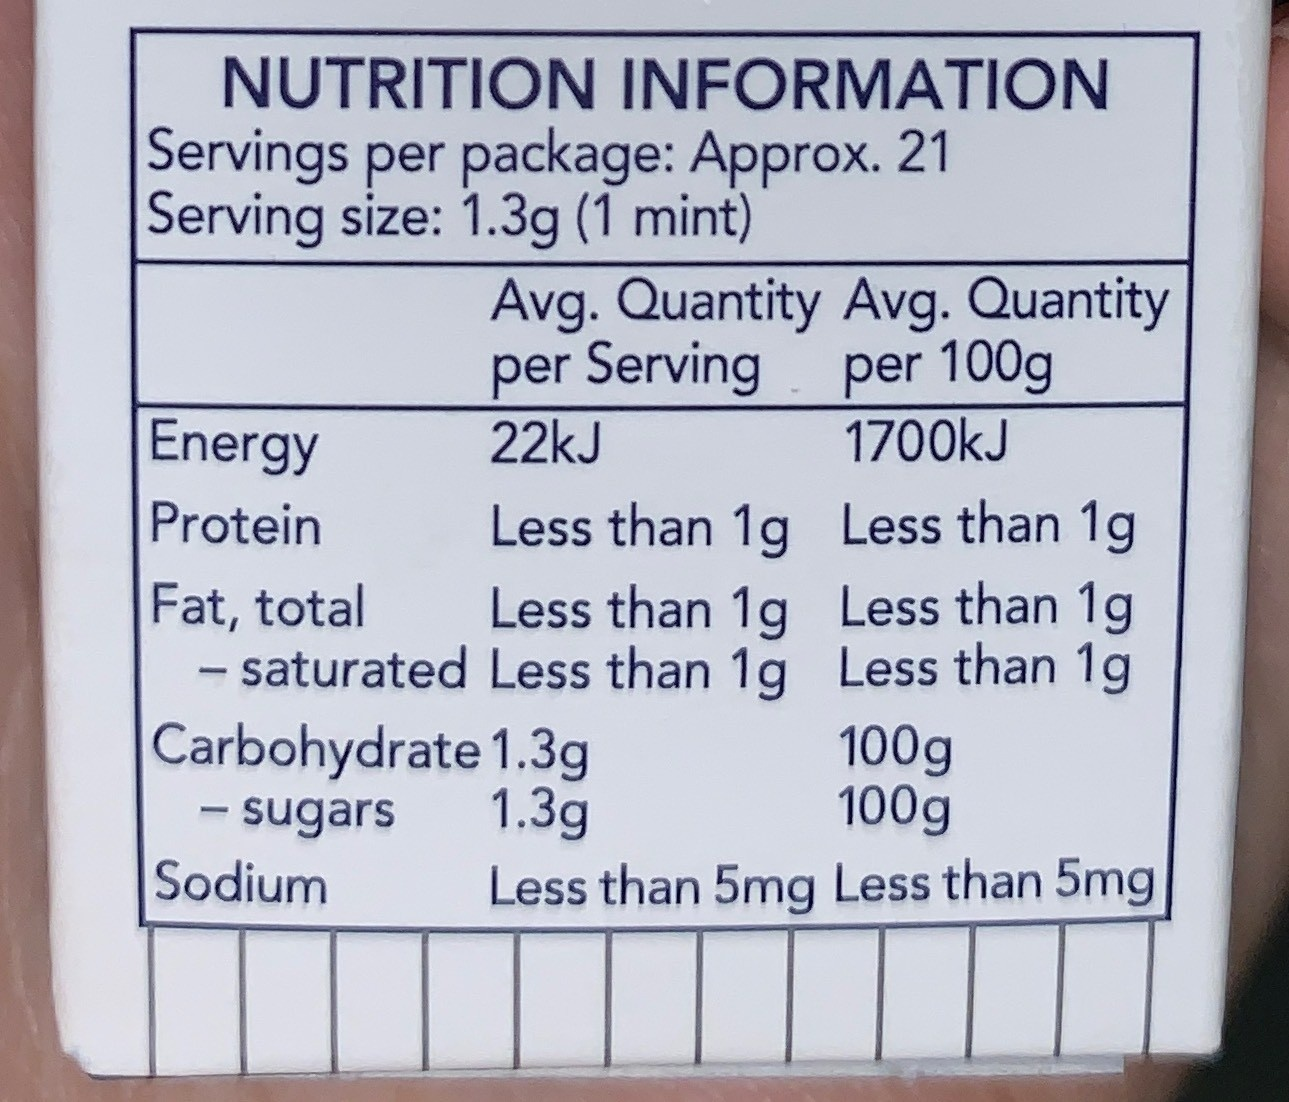column: (834, 270, 1168, 905), (151, 275, 480, 914), (490, 275, 817, 914)
table: (126, 26, 1192, 936)
